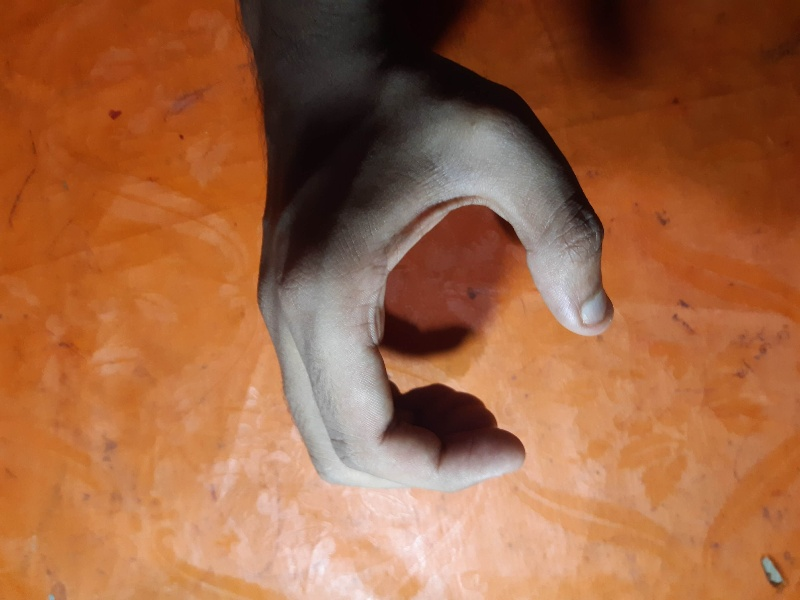one: (242, 51, 642, 522)
